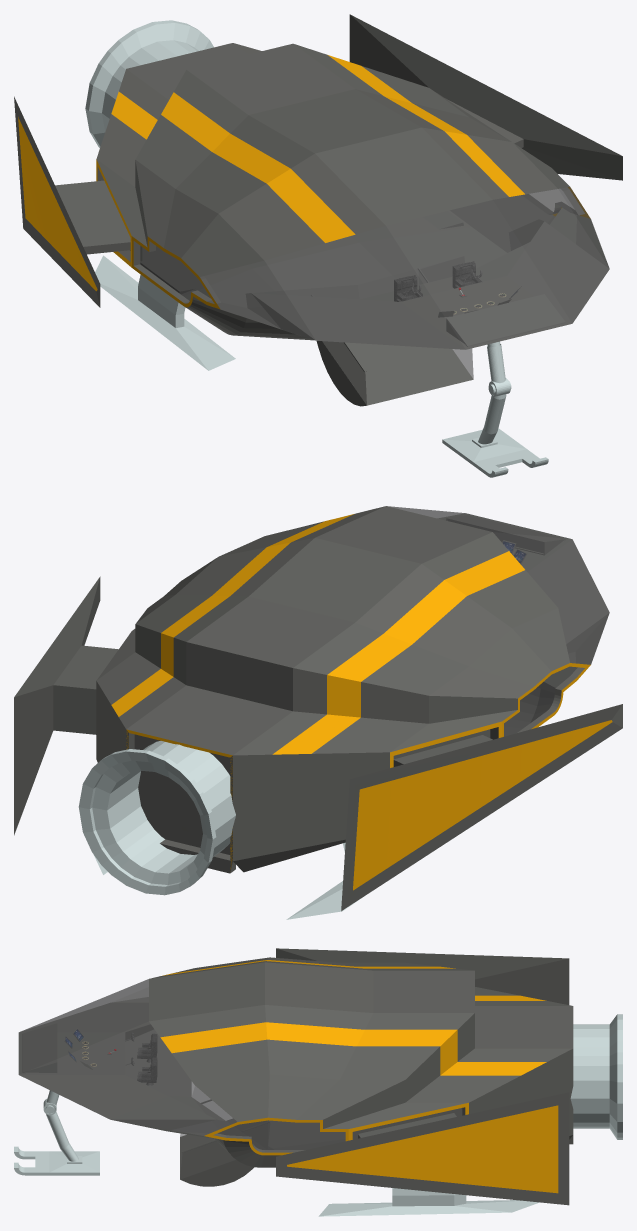
File: MainShipOpen1.fbx
The picture shows the model from 3 angles, top to bottom: view 1: azimuth 30°, elevation 25°; view 2: azimuth 150°, elevation 25°; view 3: azimuth 270°, elevation 25°; orthographic projection. The views are drawn at different scales.
Parts seen in each view (by area): view 1: MainShip, door, ship console; view 2: MainShip; view 3: MainShip, door, ship console, chair2, chair1.
Part boxes in pixels (x1,y1,x2,y2): MainShip: (14,14,622,477); door: (311,268,473,406); ship console: (401,276,534,325); MainShip: (14,506,622,919); MainShip: (14,948,622,1216); door: (180,1100,269,1186); ship console: (72,1032,125,1074); chair2: (137,1057,157,1085); chair1: (137,1033,157,1062).
Size of the model in its own units: 980 by 402 by 1211.
